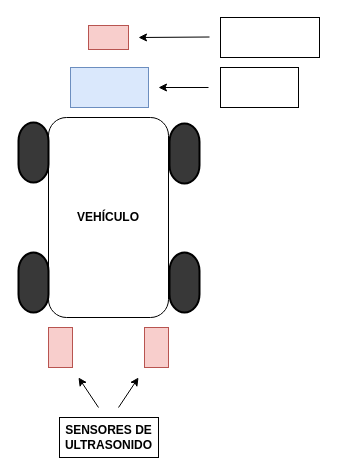
This 337x475 diagram has some shape labels left out. Each missing label, with the centre of its shape:
CÁMARA: point (259, 87)
SENSOR DE ULTRASONIDO: point (270, 37)
